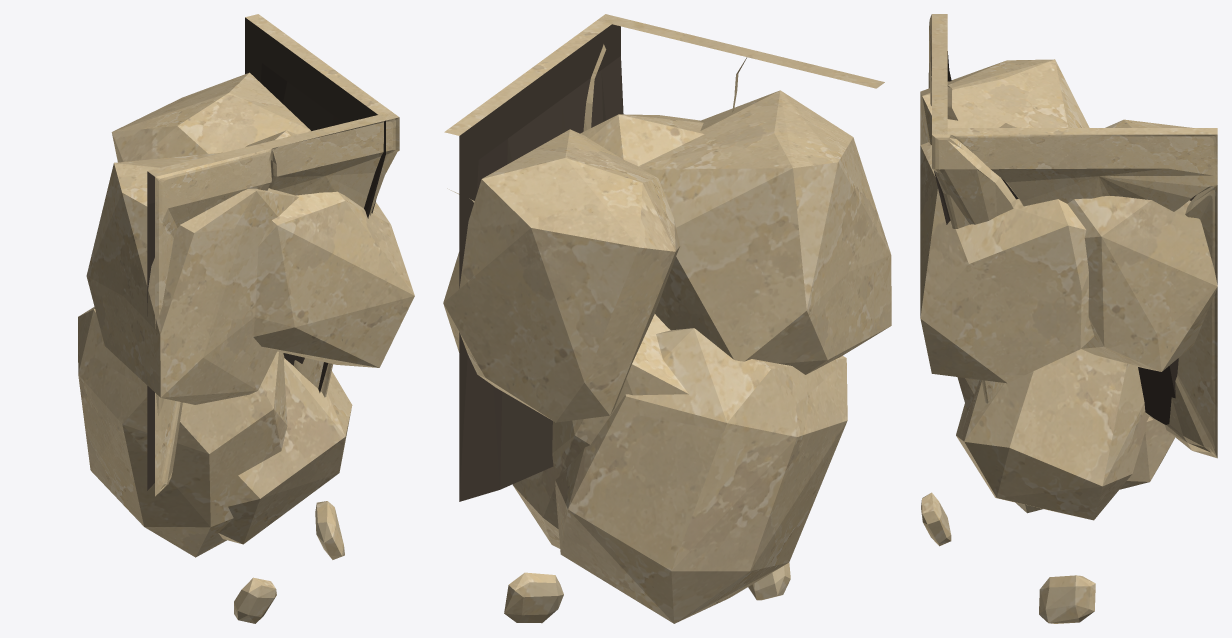
Rendered from ground_bottom_corner_02.glb.
The picture shows the model from 3 angles, left to right: view 1: azimuth 30°, elevation 25°; view 2: azimuth 150°, elevation 25°; view 3: azimuth 270°, elevation 25°; orthographic projection. The views are drawn at different scales.
Parts seen in each view (by area): view 1: GroundBottomCorner02_Body; view 2: GroundBottomCorner02_Body; view 3: GroundBottomCorner02_Body.
Boxes of the visible parts, <box> form: GroundBottomCorner02_Body: <box>78,14,414,623</box>; GroundBottomCorner02_Body: <box>443,14,891,623</box>; GroundBottomCorner02_Body: <box>920,14,1217,623</box>.
Bounding box in the file's own units: 1.04 × 1.9 × 1.04.
Materials: 8 (7 with a texture image).
